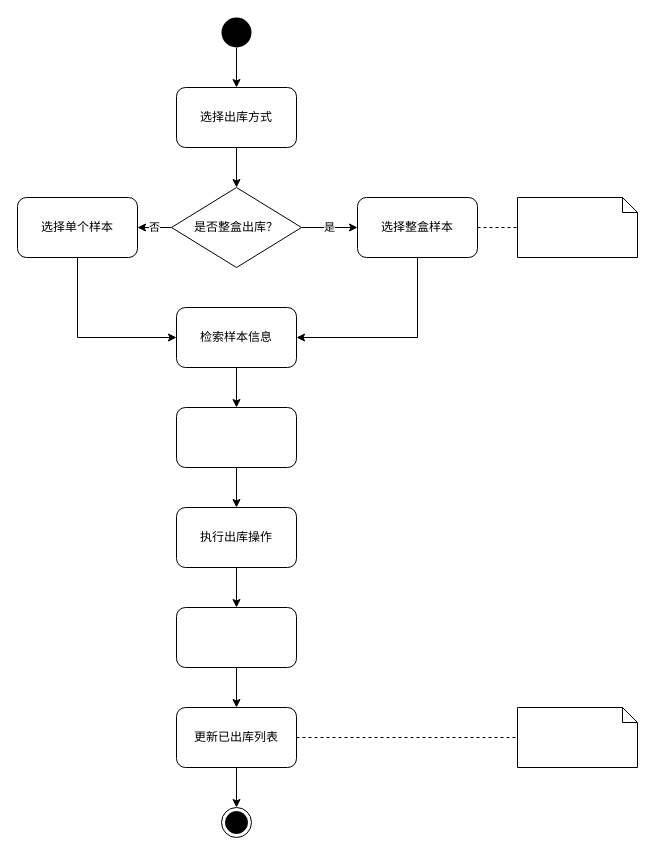
Some shapes in this 655 by 855 pixel diagram are drawn without their labels. Here are the shapes that lost their labels. From the top down, the centre of each, then its label:
the point at 577,227: 支持整盒出库功能
the point at 236,437: 确认出库信息
the point at 236,637: 记录出库日志
the point at 577,737: 永久保存出库记录
